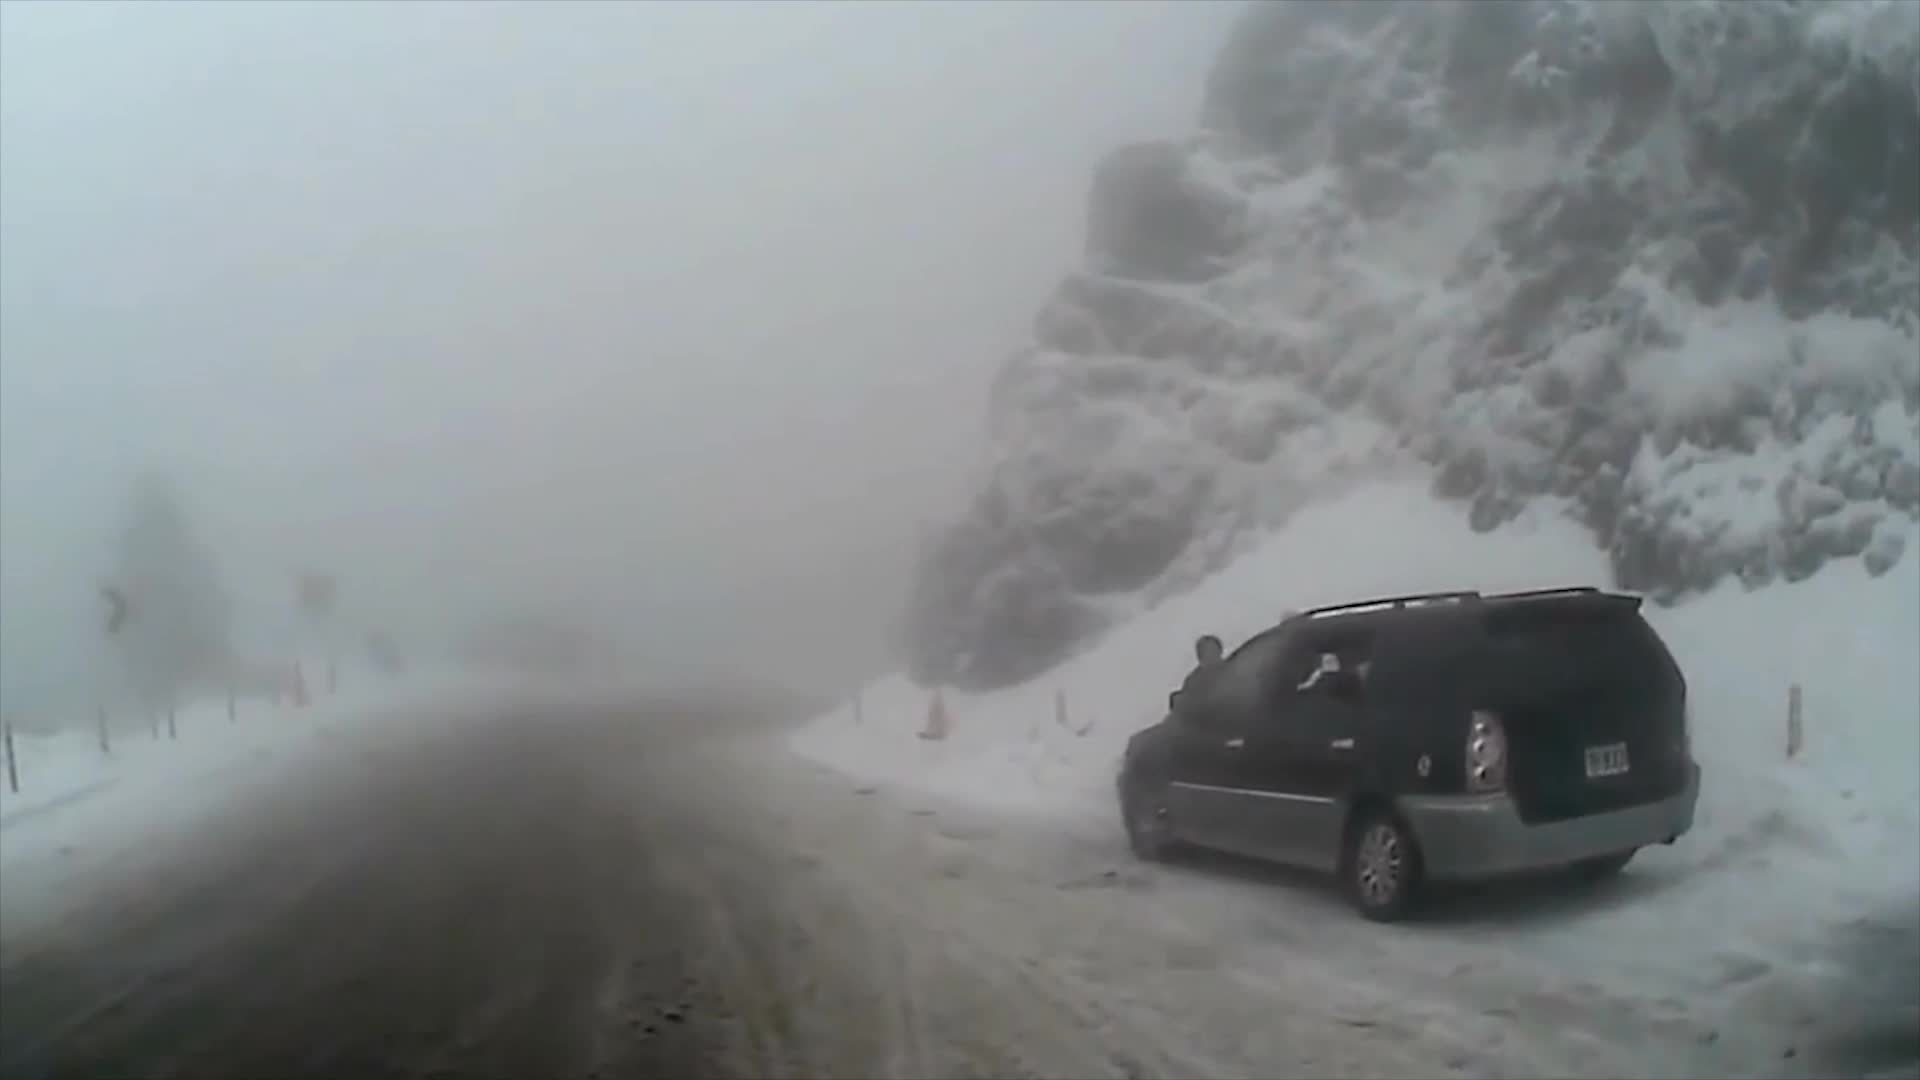vehicle: (1114, 583, 1702, 924)
